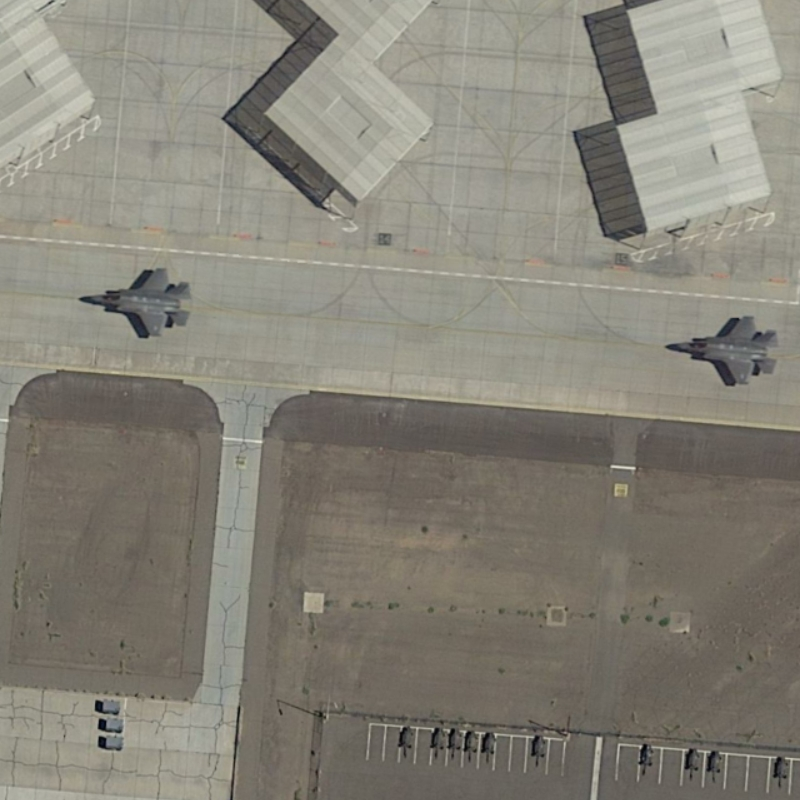A15: (73, 262, 199, 343), (664, 310, 782, 393)
